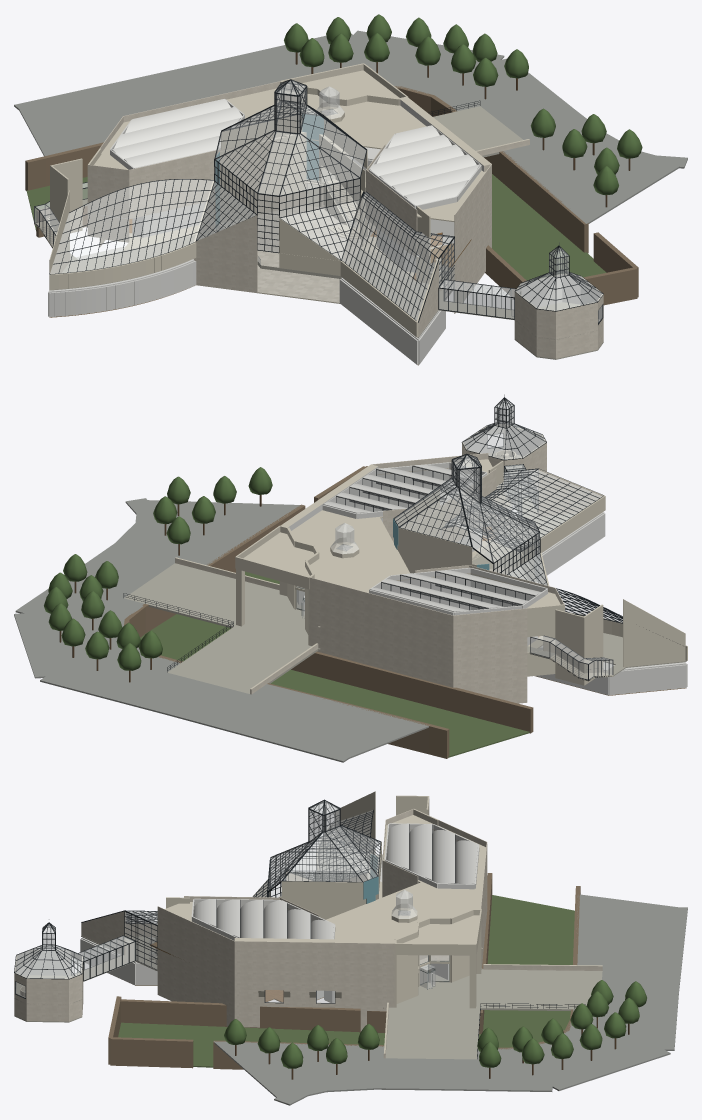
File: MUDAM_R44_KAPALI_KABUKLAR_v004_preview.glb
The picture shows the model from 3 angles, top to bottom: view 1: azimuth 30°, elevation 25°; view 2: azimuth 150°, elevation 25°; view 3: azimuth 270°, elevation 25°; orthographic projection. The views are drawn at different scales.
Parts seen in each view (by area): view 1: R38_PARK_APPROACH_GROUND, R35_MOAT_GROUND, P05_MAIN_ATRIUM_BASE_3, P05_MAIN_ROOF_DECK, R28_W_HIGH_GALLERY_WALL, R07_STAIRWELL_STONE_NORTH, P05_FRONT_0, P05_FLOOR_L00_GH, P05_GALLERY_HALL_WEST2, R35_WALL_49911001_07_2, P05_FLOOR_L00_EAST_GARDEN, R28_E_HIGH_GALLERY_WALL (+57 smaller); view 2: R38_PARK_APPROACH_GROUND, R34_APPROACH_CONTINUOUS_DECK, P05_FRONT_9, R35_MOAT_GROUND, P05_MAIN_ROOF_DECK, P05_FRONT_10, R35_WALL_51946353_03_0, P05_WEST_END, R35_WALL_51946353_04_0, R14_INNER_WALL_B, R29_W_BOUNDARY_32, R11_STONE_END (+27 smaller); view 3: R38_PARK_APPROACH_GROUND, R34_APPROACH_CONTINUOUS_DECK, R35_MOAT_GROUND, R27_CONTINUOUS_HEAD, P05_FRONT_0, P05_MAIN_ROOF_DECK, R35_WALL_51946353_00_0, R35_WALL_453755312_00_0, R17_WALL_6, P06_HIGH_EAVE_UPSTAND_5, P07_CANOPY_SLAB_ENVELOPE, P05_WEST_END (+27 smaller).
Part boxes in pixels (left/top/right/bottom): R38_PARK_APPROACH_GROUND: left=14, top=30, right=687, bottom=223; R35_MOAT_GROUND: left=26, top=174, right=606, bottom=280; P05_MAIN_ATRIUM_BASE_3: left=220, top=132, right=306, bottom=222; P05_MAIN_ROOF_DECK: left=88, top=88, right=485, bottom=222; R28_W_HIGH_GALLERY_WALL: left=129, top=149, right=223, bottom=218; R07_STAIRWELL_STONE_NORTH: left=193, top=215, right=257, bottom=292; P05_FRONT_0: left=454, top=164, right=491, bottom=313; P05_FLOOR_L00_GH: left=216, top=205, right=368, bottom=276; P05_GALLERY_HALL_WEST2: left=87, top=164, right=129, bottom=241; R35_WALL_49911001_07_2: left=499, top=151, right=588, bottom=253; P05_FLOOR_L00_EAST_GARDEN: left=342, top=248, right=452, bottom=338; R28_E_HIGH_GALLERY_WALL: left=366, top=169, right=417, bottom=257; R38_PARK_APPROACH_GROUND: left=14, top=498, right=429, bottom=762; R34_APPROACH_CONTINUOUS_DECK: left=124, top=563, right=318, bottom=693; P05_FRONT_9: left=309, top=577, right=453, bottom=687; R35_MOAT_GROUND: left=140, top=571, right=529, bottom=757; P05_MAIN_ROOF_DECK: left=291, top=459, right=564, bottom=622; P05_FRONT_10: left=453, top=608, right=527, bottom=703; R35_WALL_51946353_03_0: left=317, top=652, right=458, bottom=712; P05_WEST_END: left=623, top=599, right=685, bottom=667; R35_WALL_51946353_04_0: left=456, top=688, right=533, bottom=733; R14_INNER_WALL_B: left=555, top=609, right=585, bottom=685; R29_W_BOUNDARY_32: left=609, top=664, right=686, bottom=695; R11_STONE_END: left=538, top=469, right=604, bottom=516; R38_PARK_APPROACH_GROUND: left=214, top=894, right=687, bottom=1105; R34_APPROACH_CONTINUOUS_DECK: left=385, top=969, right=602, bottom=1059; R35_MOAT_GROUND: left=118, top=895, right=574, bottom=1067; R27_CONTINUOUS_HEAD: left=234, top=938, right=394, bottom=991; P05_FRONT_0: left=157, top=906, right=234, bottom=1026; P05_MAIN_ROOF_DECK: left=157, top=815, right=486, bottom=949; R35_WALL_51946353_00_0: left=121, top=999, right=386, bottom=1033; R35_WALL_453755312_00_0: left=110, top=1037, right=193, bottom=1068; R17_WALL_6: left=26, top=978, right=68, bottom=1021; P06_HIGH_EAVE_UPSTAND_5: left=281, top=881, right=363, bottom=899; P07_CANOPY_SLAB_ENVELOPE: left=403, top=915, right=479, bottom=943; P05_WEST_END: left=334, top=791, right=375, bottom=854.
Size of the model in its own units: 125 by 36.19 by 133.
Materials: 30 (4 with a texture image).
